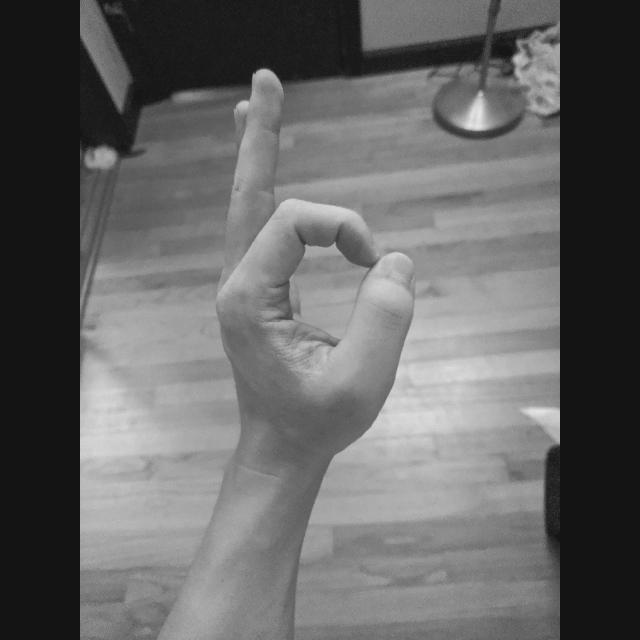F: (208, 66, 420, 460)
